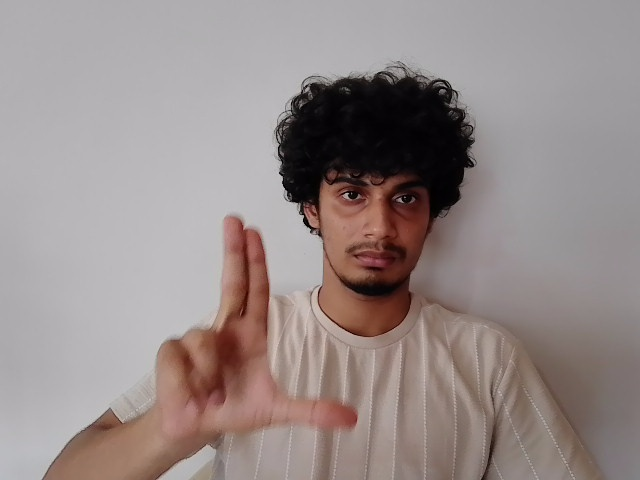no: (151, 213, 359, 442)
